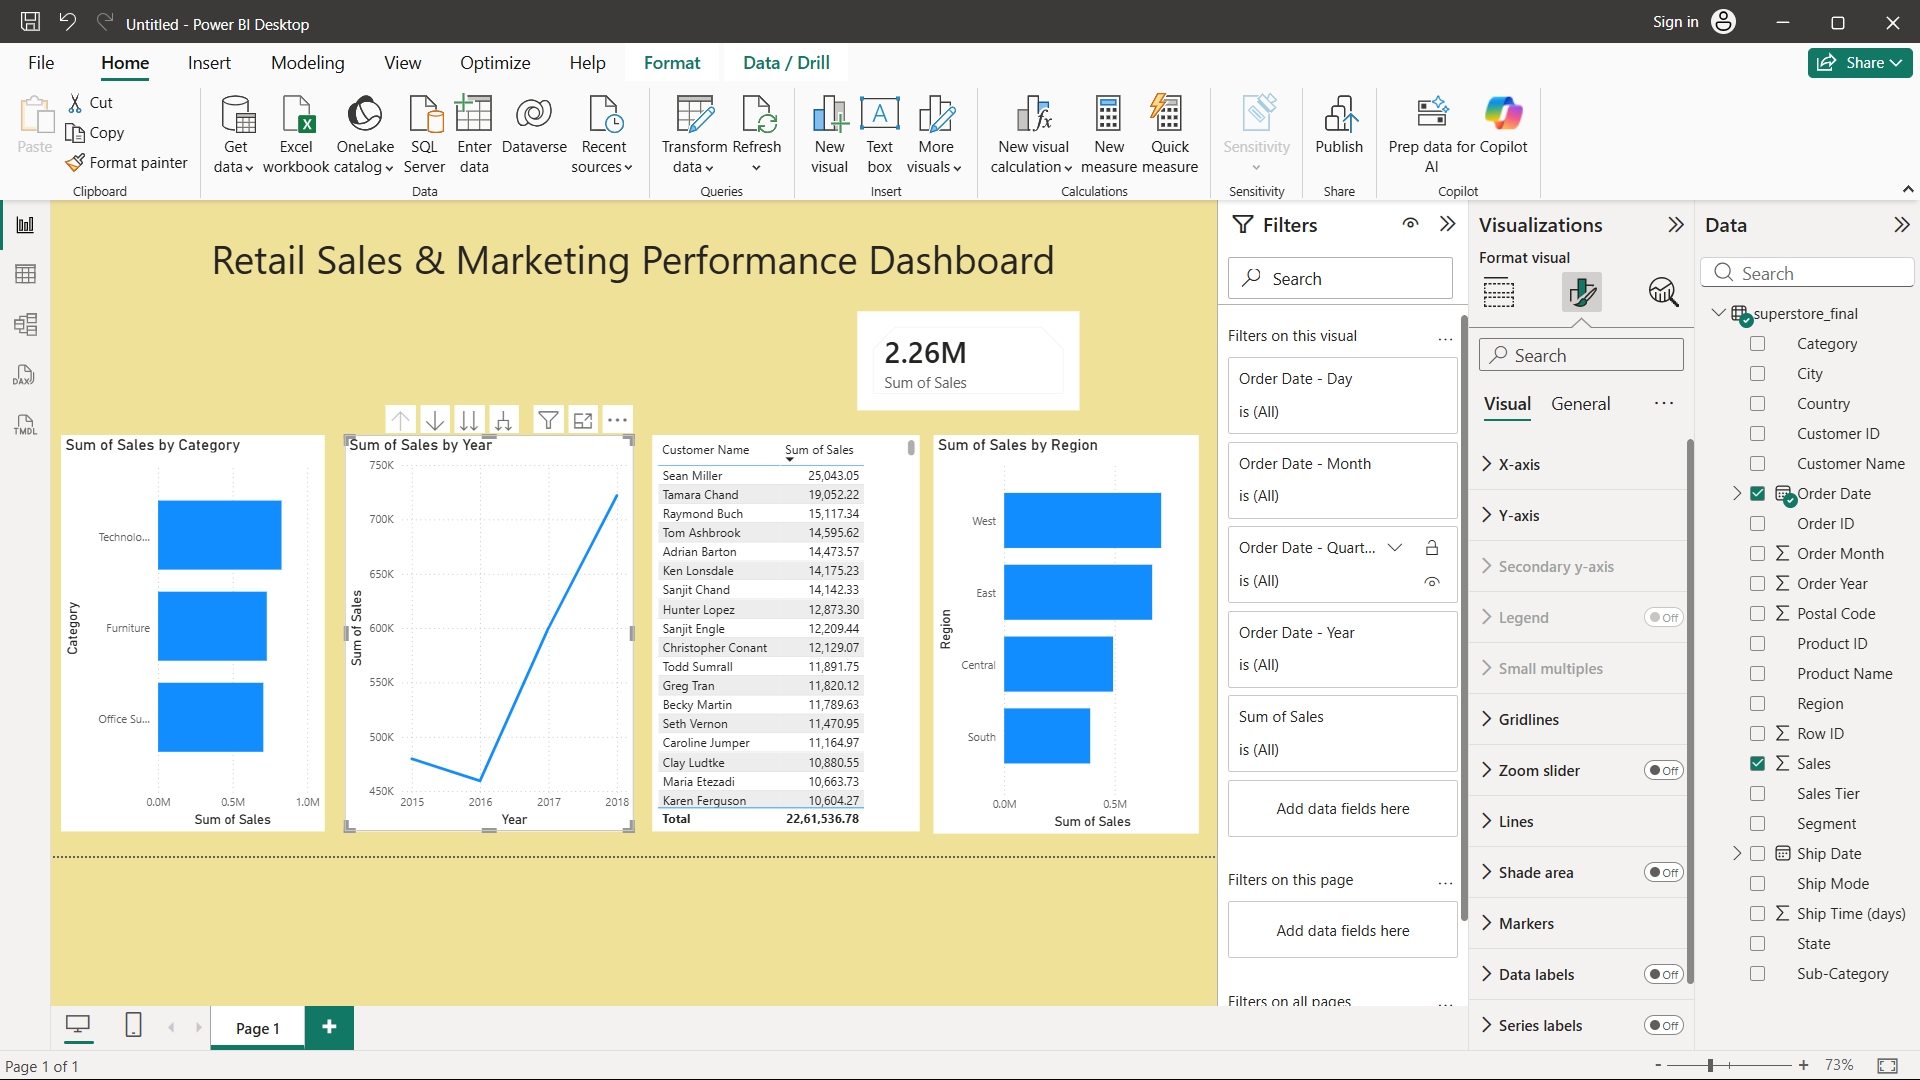

Layout of this report page (visuals, bound fields, positions):
{"tool":"powerbi","page":{"name":"Page 1","canvas":[1280,720],"ordinal":0},"visuals":[{"type":"cardVisual","fields":{"Data":["Sum(superstore_final.Sales)"]},"box":[885.1,122.1,244.3,108.4],"z":0},{"type":"barChart","fields":{"Category":["superstore_final.Region"],"Y":["Sum(superstore_final.Sales)"]},"box":[968.8,258,290.9,437.7],"z":1000},{"type":"barChart","fields":{"Category":["superstore_final.Category"],"Y":["Sum(superstore_final.Sales)"]},"box":[11,258,289.5,435],"z":2000},{"type":"lineChart","fields":{"Category":["superstore_final.Order Date.Variation.Date Hierarchy.Year","superstore_final.Order Date.Variation.Date Hierarchy.Quarter","superstore_final.Order Date.Variation.Date Hierarchy.Month","superstore_final.Order Date.Variation.Date Hierarchy.Day"],"Y":["Sum(superstore_final.Sales)"]},"box":[322.5,258,317,435],"z":3000},{"type":"tableEx","fields":{"Values":["superstore_final.Customer Name","Sum(superstore_final.Sales)"]},"box":[660,258,293.7,435],"z":4000},{"type":"textbox","box":[87.8,30.2,1103.3,71.4],"z":4001}]}

Visuals, with their boxes on the page's 1280x720 design canvas (x1, y1, x2, y2). These are canvas units, not pixel positions in the 1920x1080 screenshot, which may show the page scaled, cropped or inside an application window:
cardVisual - Sum(superstore_final.Sales): BBox(885, 122, 1129, 230)
barChart - superstore_final.Region x Sum(superstore_final.Sales): BBox(969, 258, 1260, 696)
barChart - superstore_final.Category x Sum(superstore_final.Sales): BBox(11, 258, 300, 693)
lineChart - superstore_final.Order Date.Variation.Date Hierarchy.Year x superstore_final.Order Date.Variation.Date Hierarchy.Quarter: BBox(322, 258, 640, 693)
tableEx - superstore_final.Customer Name x Sum(superstore_final.Sales): BBox(660, 258, 954, 693)
textbox: BBox(88, 30, 1191, 102)
